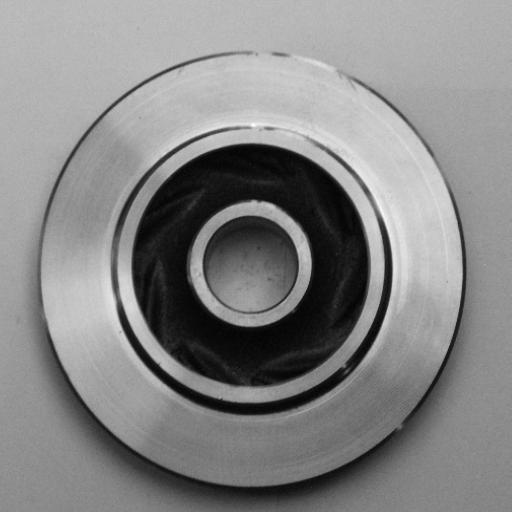scratch: (249, 38, 363, 96), (242, 108, 331, 157)
unpolished_casting: (39, 49, 467, 492)
